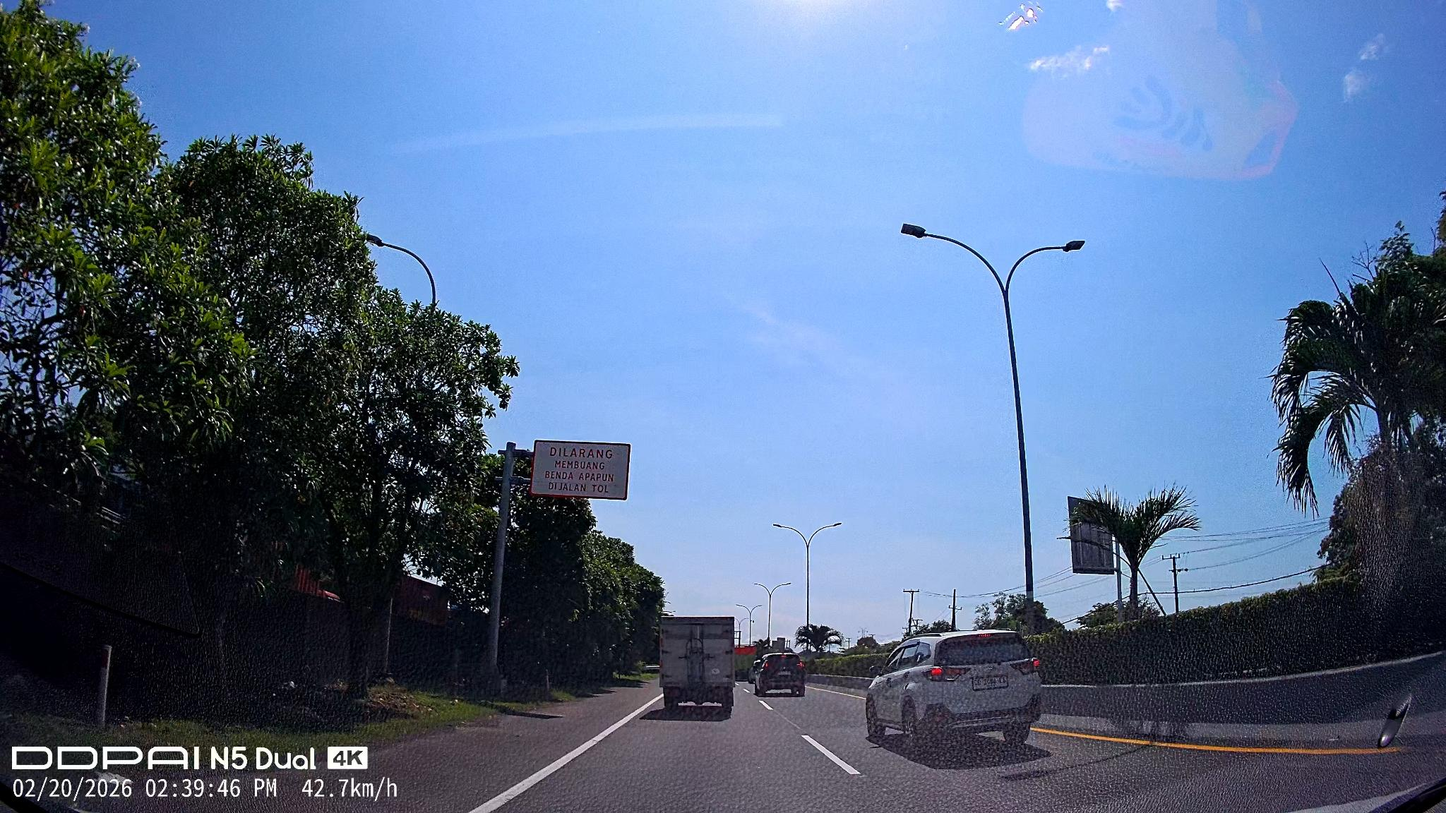rambu_teks: (529, 438, 632, 501)
